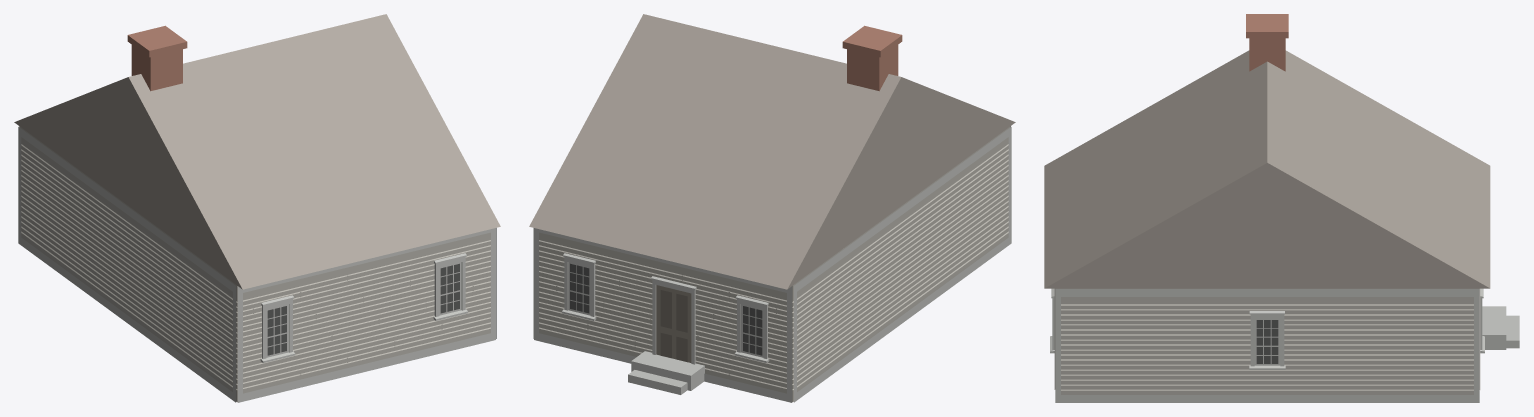
File: recon_1835_blk_west_randolph_canal_d5_03__inferred_1835.glb
The picture shows the model from 3 angles, left to right: view 1: azimuth 30°, elevation 25°; view 2: azimuth 150°, elevation 25°; view 3: azimuth 270°, elevation 25°; orthographic projection. The views are drawn at different scales.
Parts seen in each view (by area): view 1: recon_1835_blk_west_randolph_canal_d5_03__inferred_1835; view 2: recon_1835_blk_west_randolph_canal_d5_03__inferred_1835; view 3: recon_1835_blk_west_randolph_canal_d5_03__inferred_1835.
Part boxes in pixels (<box>): recon_1835_blk_west_randolph_canal_d5_03__inferred_1835: <box>14,14,500,402</box>; recon_1835_blk_west_randolph_canal_d5_03__inferred_1835: <box>529,14,1015,402</box>; recon_1835_blk_west_randolph_canal_d5_03__inferred_1835: <box>1044,14,1519,402</box>.
Size of the model in its own units: 6.83 by 6.86 by 10.92.
